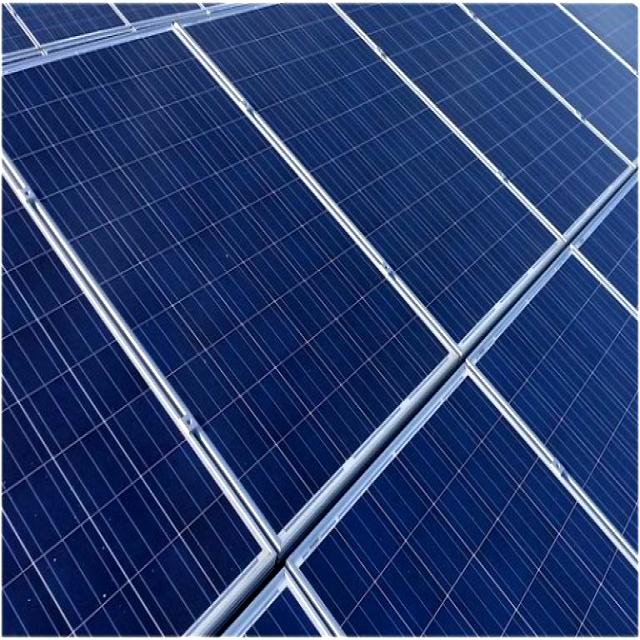crack: (0, 48, 462, 552), (166, 0, 596, 373), (331, 0, 640, 253)
